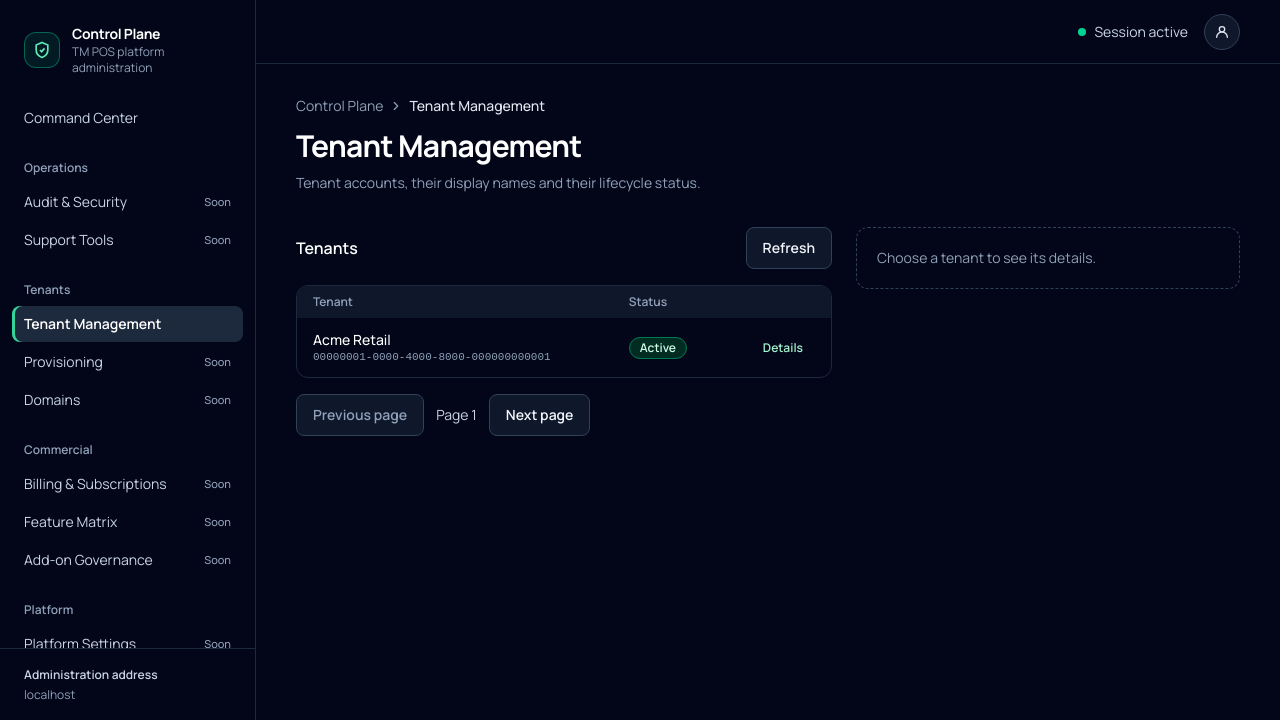
Test: Tenant Management: the directory › pages with the server cursor: Next sends it, Previous returns, and the page number follows
The width and height of the screenshot is (1280, 720).
Check: the heading "Tenant Management" is shown, box [296,125,582,166]
Check: the table is shown, box [297,286,831,378]
Click the button "Next page".
click(540, 416)  # box [489,394,590,436]
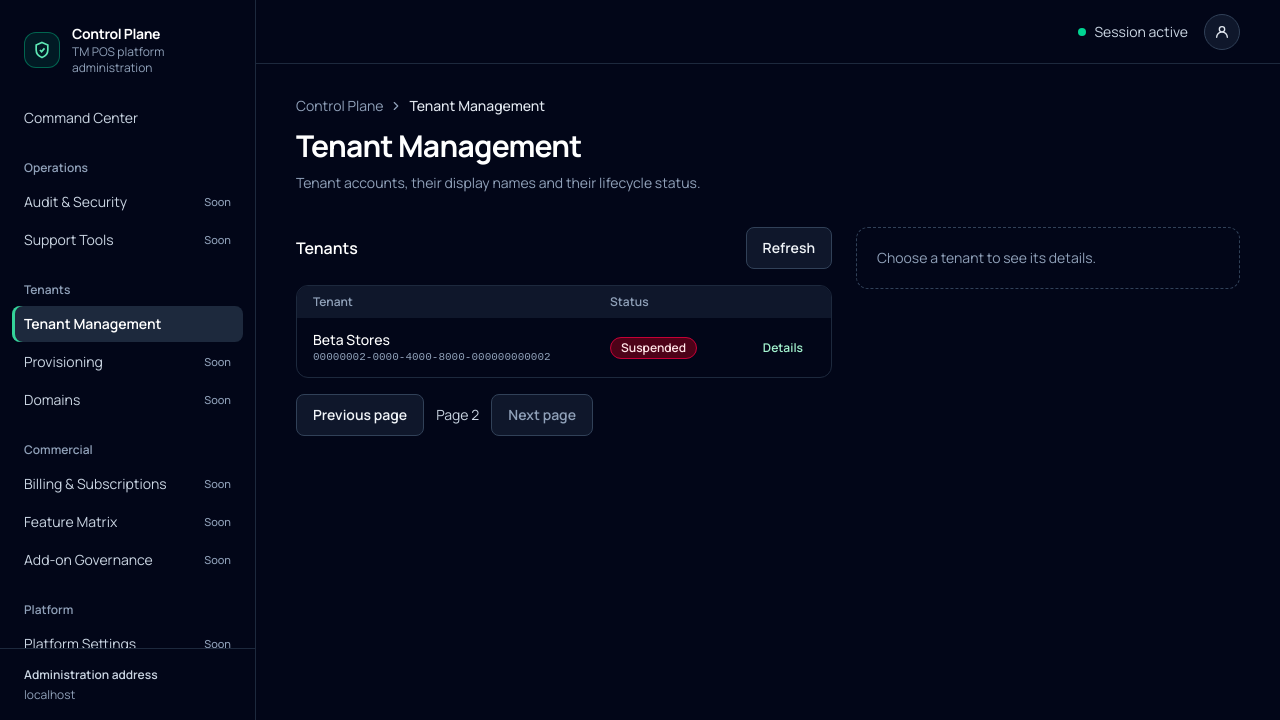
Check: the text "Beta Stores" is shown, box [313,330,390,349]
Check: the text "Page 2" is shown, box [436,406,479,426]
Check: the button "Next page" is disabled, box [491,394,593,436]
Click the button "Previous page".
click(360, 416)  # box [296,394,424,436]
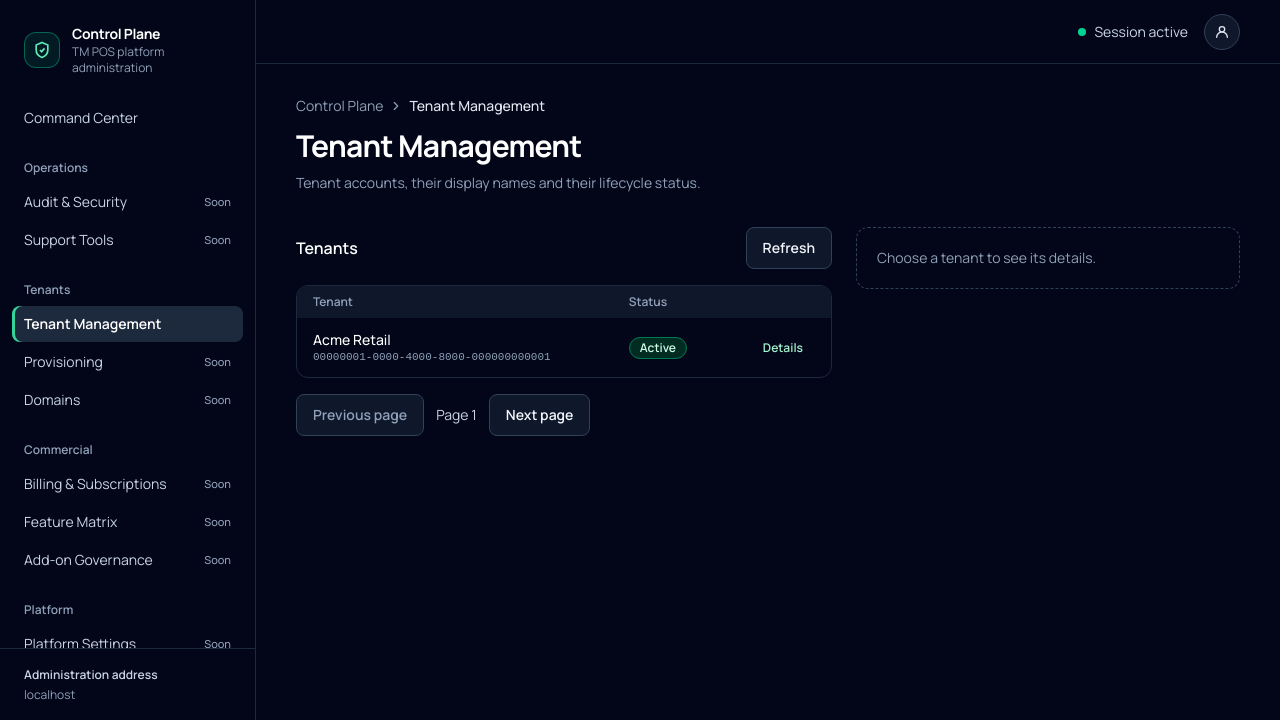
Check: the text "Acme Retail" is shown, box [313,330,391,349]
Check: the text "Page 1" is shown, box [436,406,477,426]
